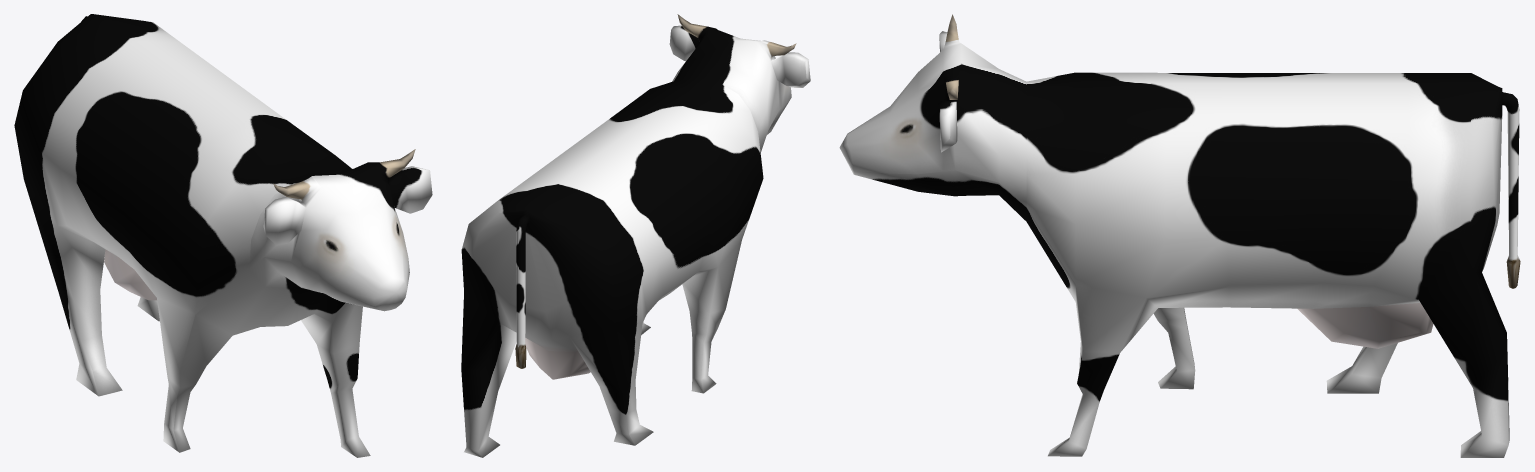
The model's file is cow.glb.
3 views of the same model, side by side, from view 1: azimuth 30°, elevation 25°; view 2: azimuth 150°, elevation 25°; view 3: azimuth 270°, elevation 25° (orthographic). The views are drawn at different scales.
Visible parts, largest first — view 1: Cilindro; view 2: Cilindro; view 3: Cilindro.
Part boxes in pixels (bbox=[...]): Cilindro: bbox=[14, 14, 432, 457]; Cilindro: bbox=[461, 14, 810, 457]; Cilindro: bbox=[839, 14, 1520, 457].
Bounding box in the file's own units: 268 × 456 × 766.
Materials: 1 (1 with a texture image).
